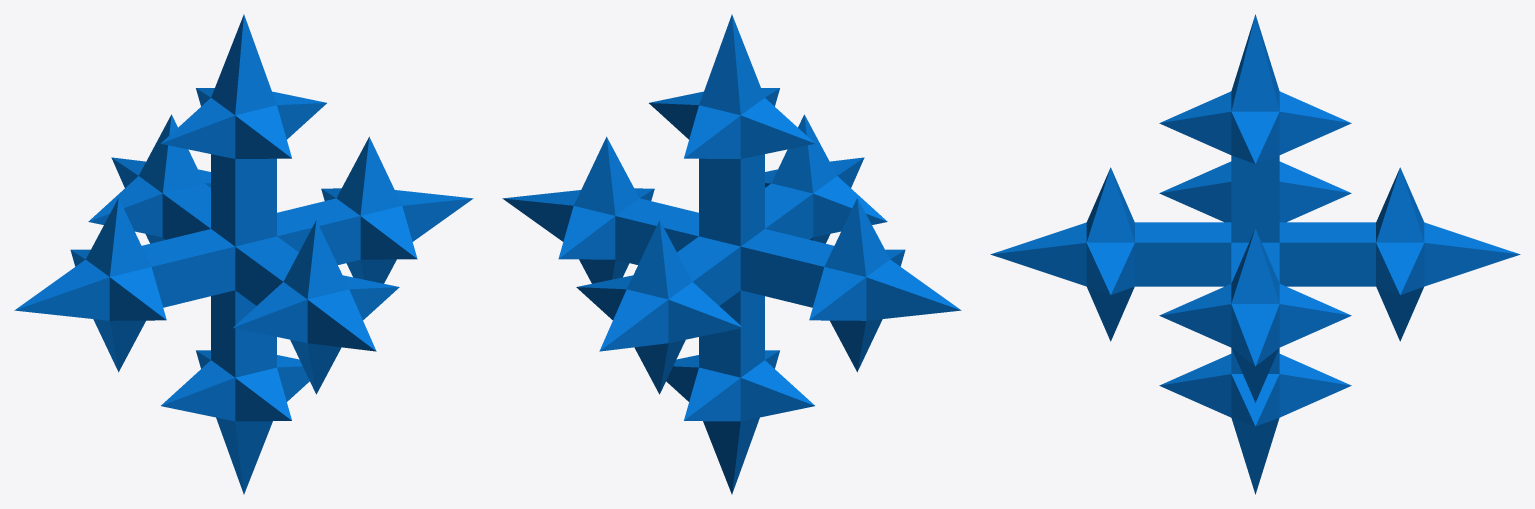
File: TRIAXE.glb
The picture shows the model from 3 angles, left to right: view 1: azimuth 30°, elevation 25°; view 2: azimuth 150°, elevation 25°; view 3: azimuth 270°, elevation 25°; orthographic projection.
Visible parts, largest first — view 1: Cube; view 2: Cube; view 3: Cube.
Part boxes in pixels (box(x1,y1,x2,y2)): Cube: box(14, 14, 473, 494); Cube: box(502, 14, 961, 494); Cube: box(990, 14, 1520, 494).
Size of the model in its own units: 0.3096 by 0.3096 by 0.3096.
